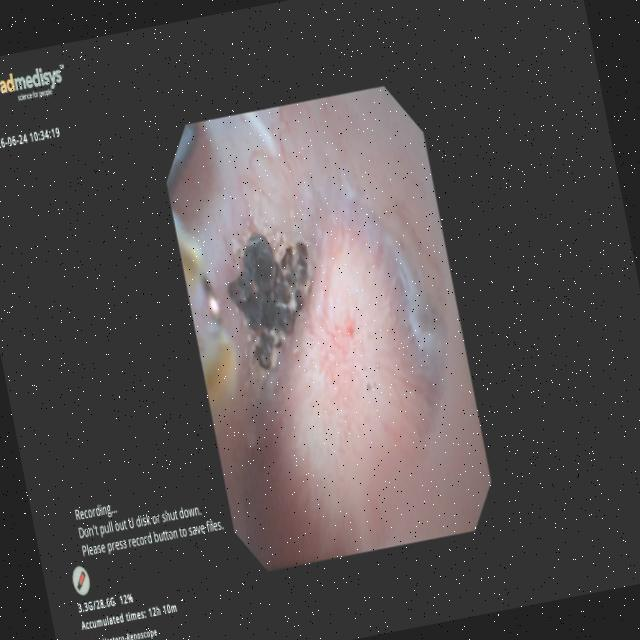stone-new: (228, 233, 308, 369)
